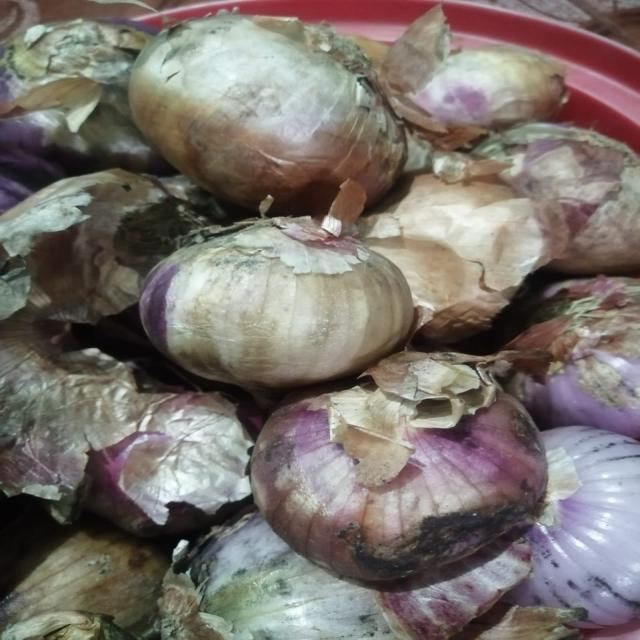rotten: (364, 508, 554, 572), (32, 103, 161, 172)
